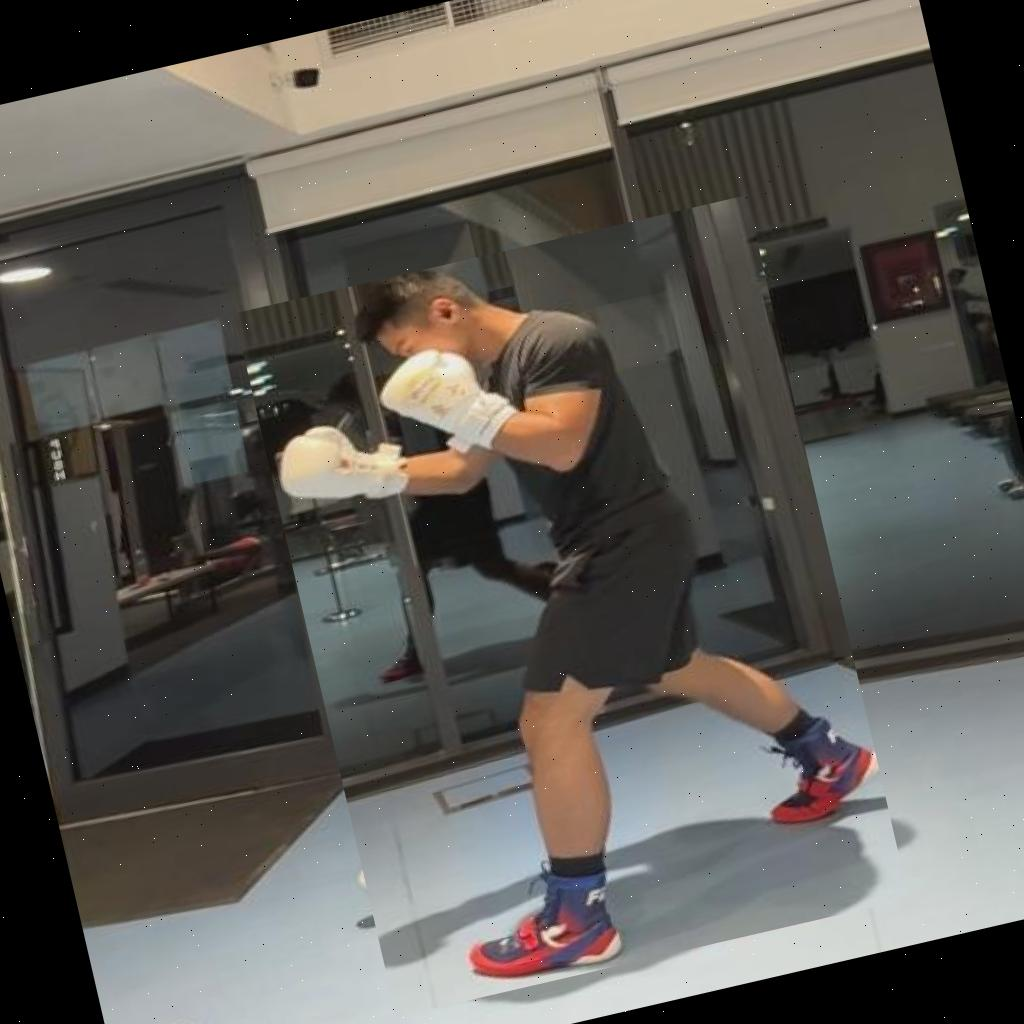uppercut: (234, 195, 909, 1017)
